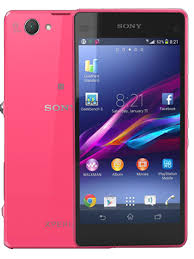sony: (3, 8, 189, 247)
